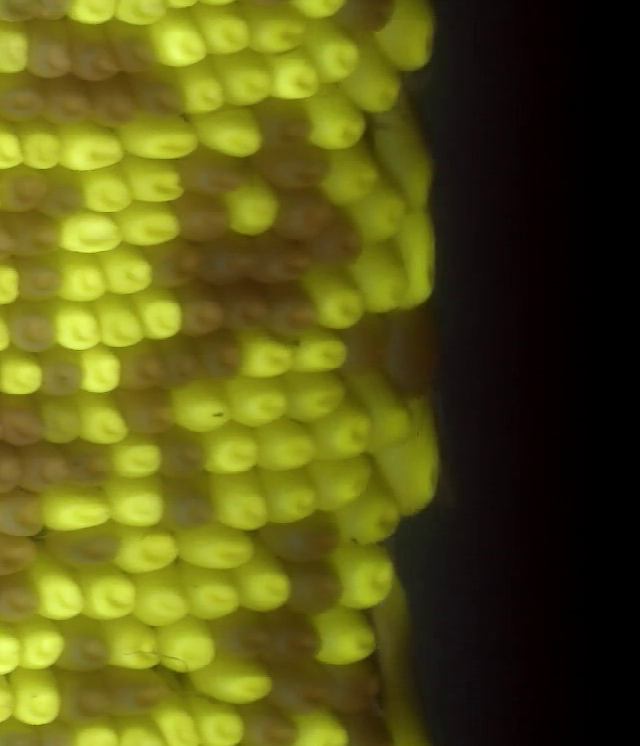fluorescent: (379, 123, 444, 211), (385, 418, 444, 512), (348, 374, 412, 451), (302, 259, 366, 334), (354, 243, 414, 317), (193, 103, 265, 161), (335, 545, 401, 606), (401, 211, 442, 309), (30, 551, 85, 624), (123, 111, 203, 161), (132, 559, 188, 628), (313, 604, 377, 664), (344, 483, 398, 549), (214, 469, 272, 529), (201, 659, 275, 706), (383, 6, 437, 70), (151, 7, 208, 67), (177, 524, 253, 569), (235, 557, 295, 614), (228, 378, 297, 427), (162, 617, 220, 675), (313, 91, 370, 150), (350, 181, 406, 241), (312, 401, 371, 457), (224, 177, 278, 238), (307, 17, 359, 80), (40, 487, 116, 529), (239, 327, 299, 380), (9, 669, 62, 729), (103, 616, 159, 672), (249, 3, 308, 56), (318, 454, 374, 509), (259, 420, 318, 472), (62, 124, 129, 169), (130, 287, 185, 341), (285, 376, 349, 422), (18, 612, 64, 676), (125, 155, 185, 204), (122, 201, 183, 249), (76, 393, 132, 445), (330, 149, 381, 206), (177, 381, 232, 433), (218, 55, 275, 104), (60, 253, 114, 304), (112, 480, 167, 530), (76, 164, 133, 212), (87, 566, 133, 625), (265, 470, 316, 523), (183, 571, 238, 620), (213, 424, 260, 480), (61, 212, 122, 255), (271, 51, 323, 101), (116, 532, 180, 571), (96, 295, 143, 348), (353, 62, 402, 112), (106, 245, 154, 295), (54, 303, 104, 351), (17, 117, 59, 174), (201, 7, 250, 55), (297, 332, 351, 375), (193, 702, 245, 746), (182, 64, 225, 117), (78, 346, 120, 396), (118, 435, 161, 480), (159, 697, 196, 746), (0, 353, 41, 397)
nonfluorescent: (380, 304, 441, 399), (376, 583, 415, 686), (264, 516, 343, 566), (253, 143, 332, 192), (50, 671, 118, 727), (172, 145, 241, 198), (278, 564, 344, 618), (41, 524, 118, 570), (272, 657, 330, 714), (111, 11, 160, 78), (39, 74, 98, 129), (66, 17, 119, 78), (272, 186, 332, 239), (6, 208, 65, 261), (25, 17, 77, 77), (258, 96, 316, 149), (203, 229, 259, 283), (270, 607, 322, 665), (316, 209, 365, 270), (208, 612, 270, 660), (154, 425, 207, 481), (241, 699, 303, 746), (148, 234, 202, 287), (223, 281, 274, 337), (59, 618, 112, 671), (119, 339, 171, 393), (0, 71, 48, 129), (256, 235, 314, 283), (156, 478, 212, 527), (266, 278, 308, 343), (175, 192, 230, 241), (20, 441, 71, 493), (175, 286, 229, 335), (113, 667, 167, 716), (191, 329, 240, 382), (91, 75, 140, 127), (38, 345, 86, 398), (0, 162, 46, 217), (44, 165, 90, 219), (345, 314, 383, 378), (8, 303, 55, 354), (0, 396, 45, 449), (138, 75, 188, 122), (122, 393, 175, 437), (18, 256, 66, 304), (332, 660, 381, 706), (154, 338, 198, 388), (332, 707, 387, 746), (71, 443, 111, 490), (0, 575, 39, 623), (334, 1, 390, 30), (0, 497, 44, 533), (0, 532, 34, 577)
